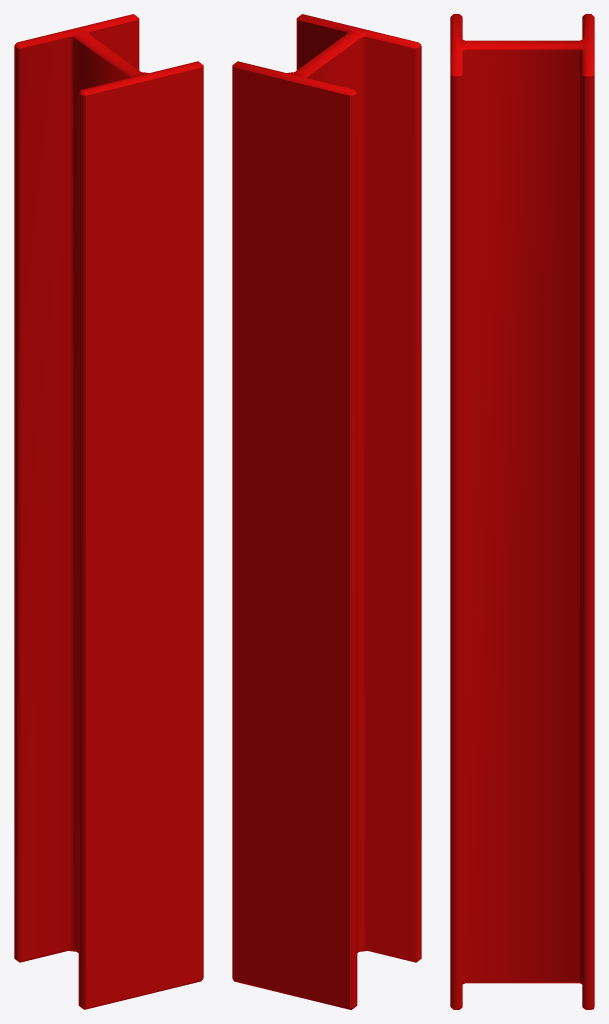
The picture shows the model from 3 angles, left to right: view 1: azimuth 30°, elevation 25°; view 2: azimuth 150°, elevation 25°; view 3: azimuth 270°, elevation 25°; orthographic projection. The views are drawn at different scales.
Visible parts, largest first — view 1: Mesh; view 2: Mesh; view 3: Mesh.
Part boxes in pixels (x1,y1,x2,y2): Mesh: (14, 14, 203, 1009); Mesh: (232, 14, 421, 1009); Mesh: (450, 14, 594, 1009).
Bounding box in the file's own units: 1.11 × 8 × 1.11.
